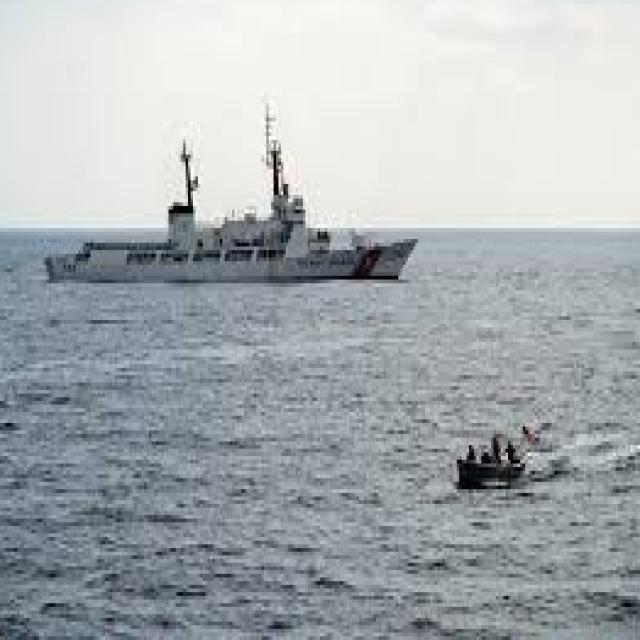navalvessels: (44, 104, 427, 300)
